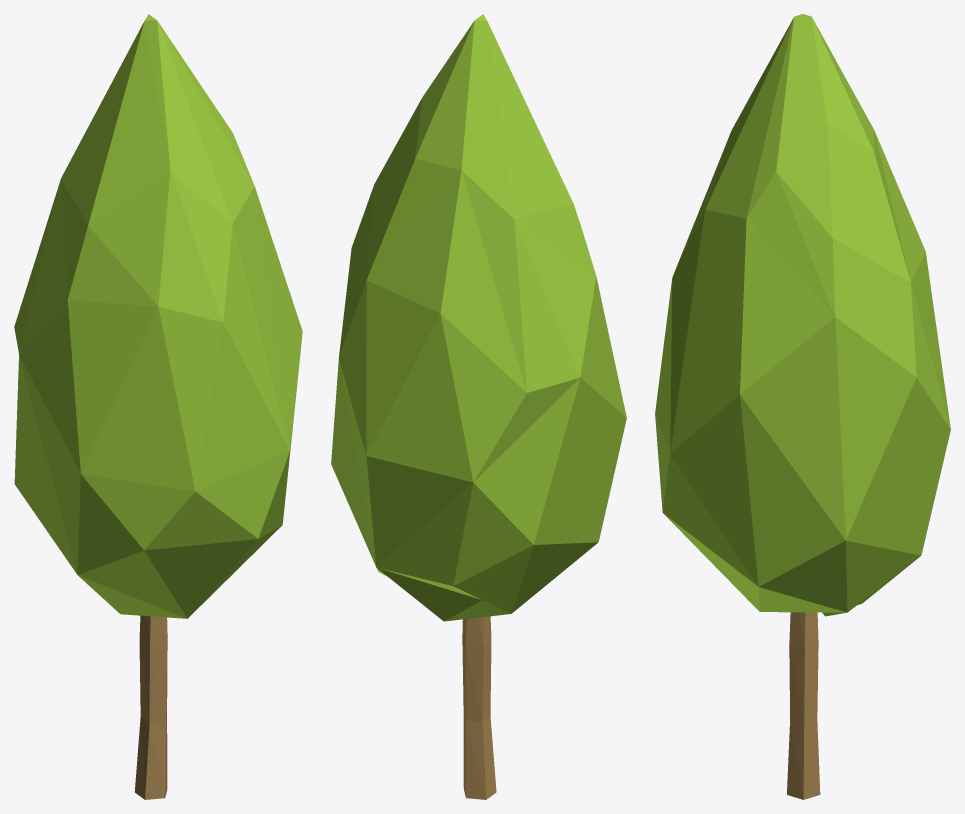
File: longtree.obj
The picture shows the model from 3 angles, left to right: view 1: azimuth 30°, elevation 25°; view 2: azimuth 150°, elevation 25°; view 3: azimuth 270°, elevation 25°; orthographic projection.
Bounding box in the file's own units: 42.68 × 130 × 44.79.
